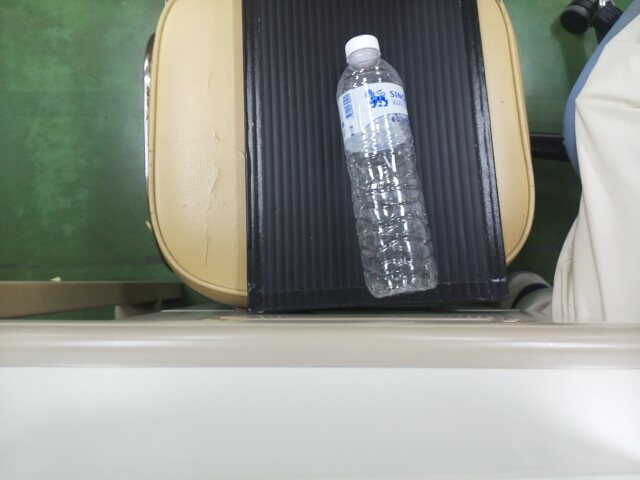plastic_bottle: (324, 25, 442, 299)
